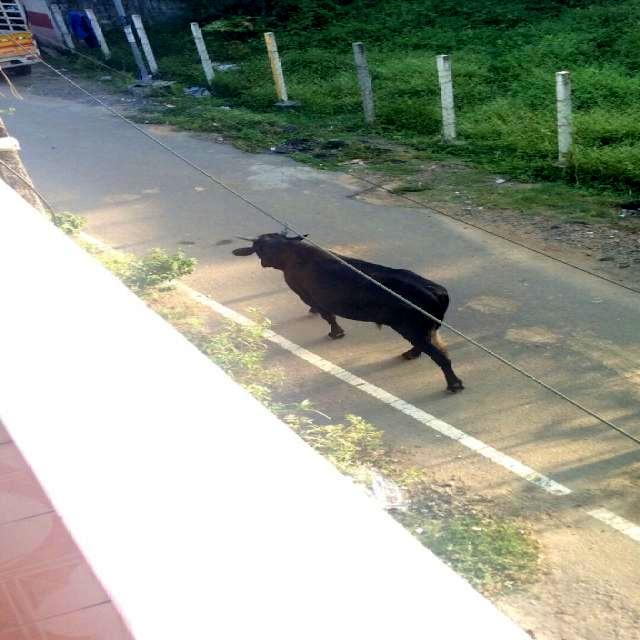COW: (234, 232, 462, 389), (342, 258, 449, 319)
